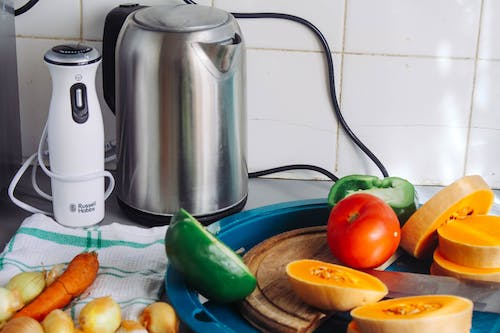knife: (349, 266, 500, 315)
